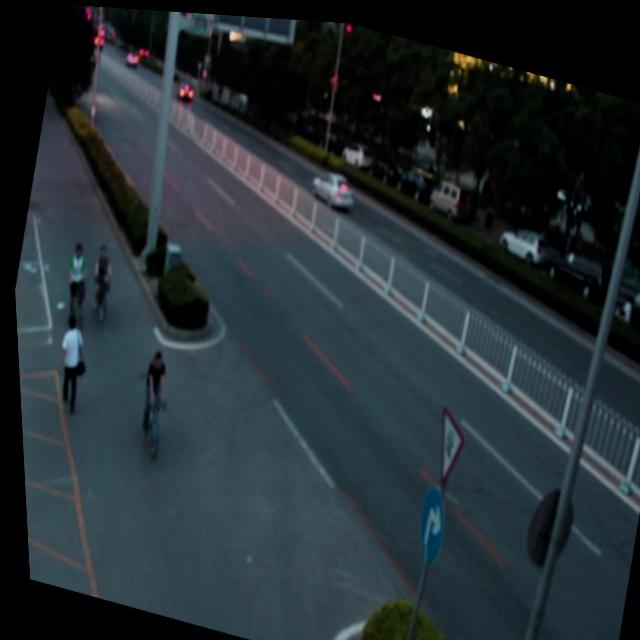car: (304, 161, 357, 207)
